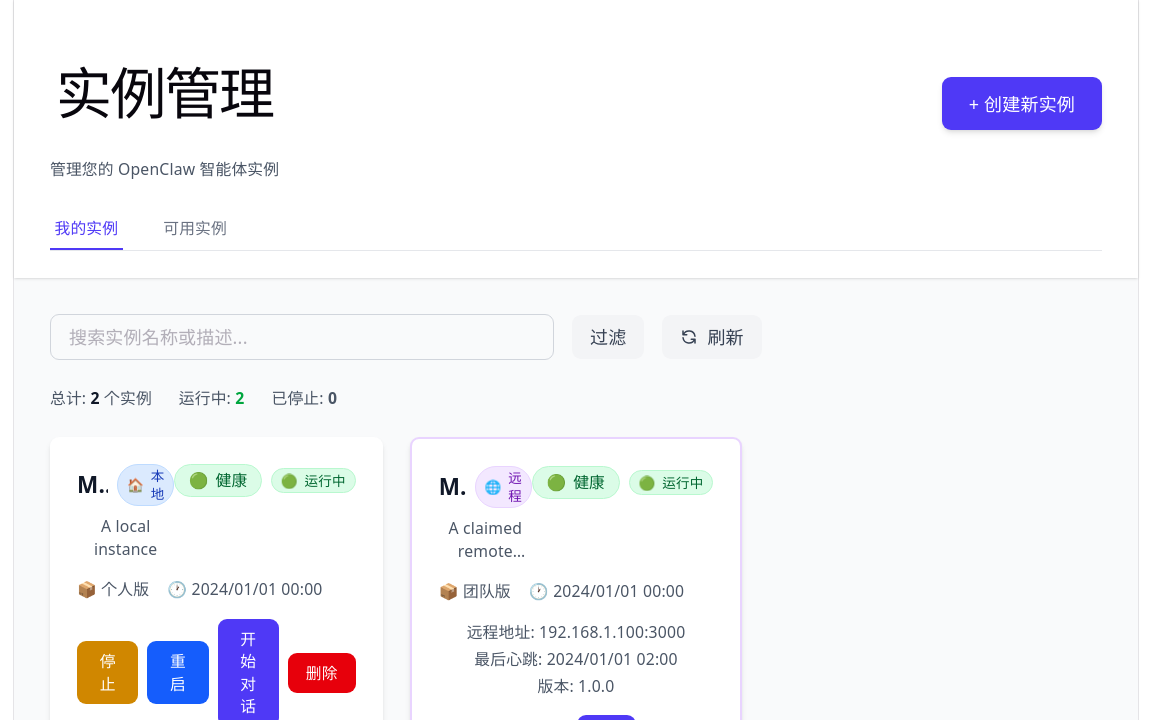
Test: InstanceListPage › Search and Filter › should filter claimed instances by search term
The image size is (1152, 720).
Expected: the heading "My Local Instance" is shown, [77,469,108,501]
Type "Remote" into the field with test id "search-input" at (302, 337), box [50,314,554,360]
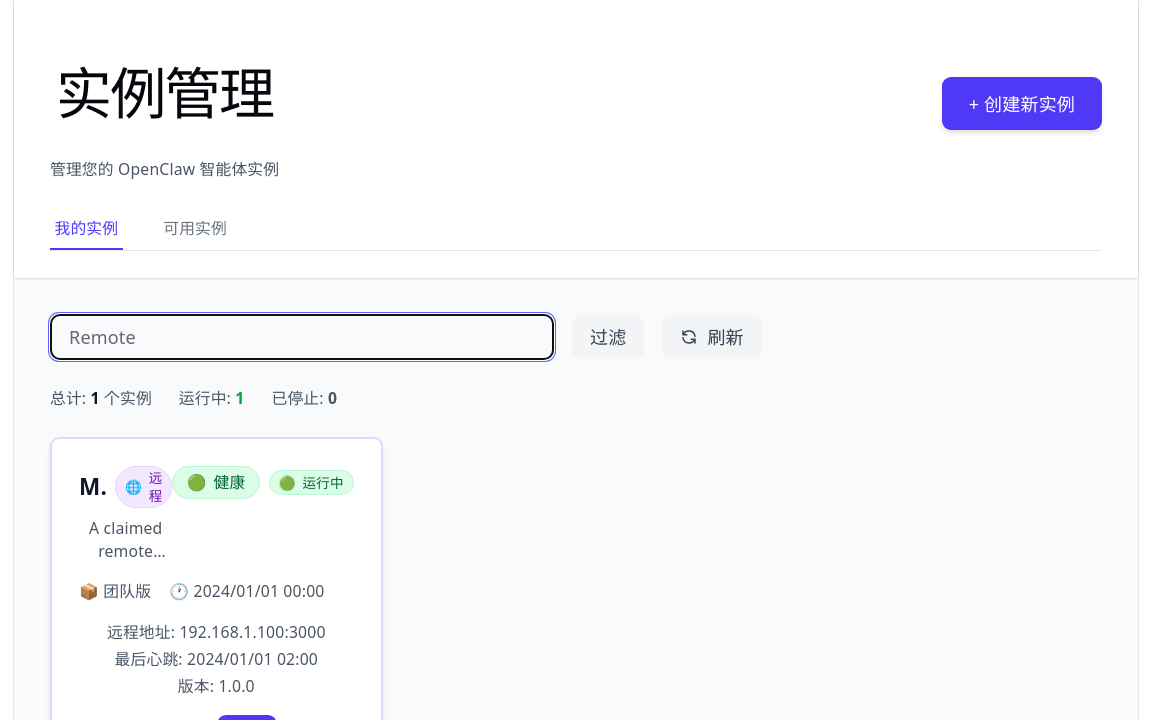
Expected: the heading "My Remote Instance" is shown, [79,471,106,503]
Expected: the heading "My Local Instance" is gone
